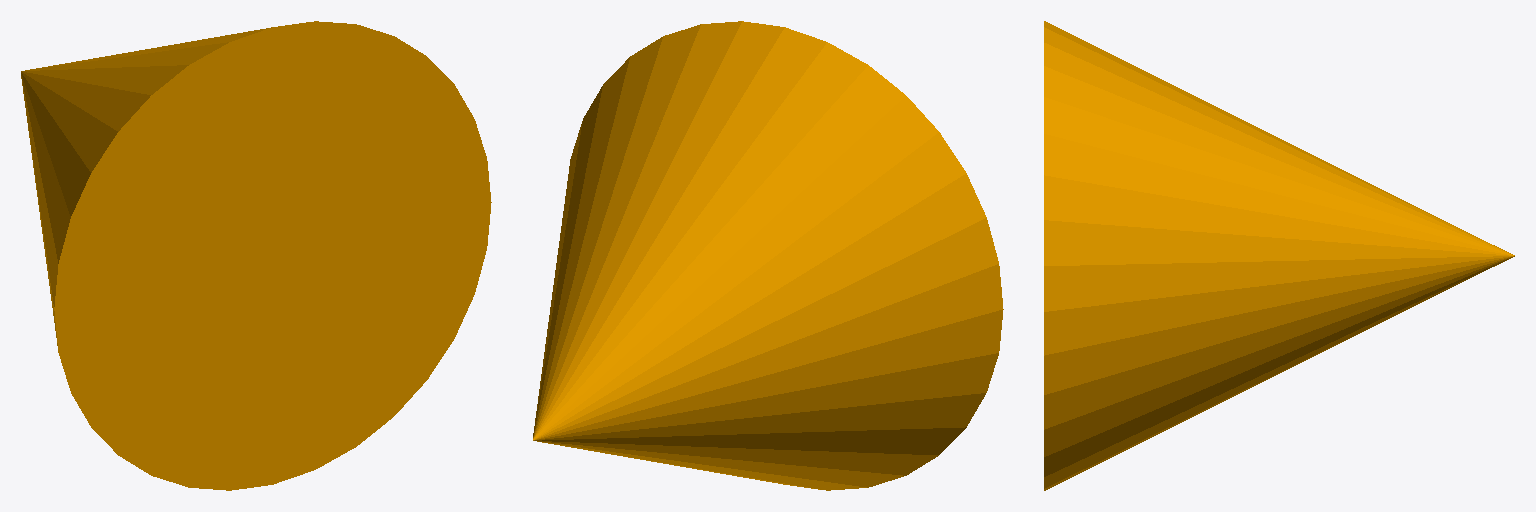
The robot description file, URDF, robot "object":
<?xml version="1.0"?>
<robot name="object">
  <link name="object">
    <visual>
      <origin xyz="0 0 0"/>
      <geometry>
        <mesh filename="meshes/custom/obj2_cone.obj" scale=".08 .08 .08"/>
      </geometry>
    </visual>
    <collision>
      <origin xyz="0 0 0"/>
      <geometry>
        <mesh filename="meshes/custom/obj2_cone.obj" scale=".08 .08 .08"/>
      </geometry>
    </collision>
    <inertial>
      <density value="500.0"/>
    </inertial>
  </link>
</robot>

--- Render facts (derived) ---
Views: 3 orthographic renders of the robot side by side, from view 1: azimuth 30°, elevation 25°; view 2: azimuth 150°, elevation 25°; view 3: azimuth 270°, elevation 25°.
Model object with 1 links and 0 joints (none), rooted at object, posed all joints at 0.
Links seen in each view (by area): view 1: object; view 2: object; view 3: object.
Link boxes in pixels (x1,y1,x2,y2): object: [21, 21, 491, 490]; object: [533, 21, 1003, 490]; object: [1044, 21, 1514, 490].
Bounding box of the posed robot: 0.08 × 0.08 × 0.08 m (x, y, z).
Meshes: 1 distinct files referenced, 1 mesh visuals loaded (1 OBJ).
